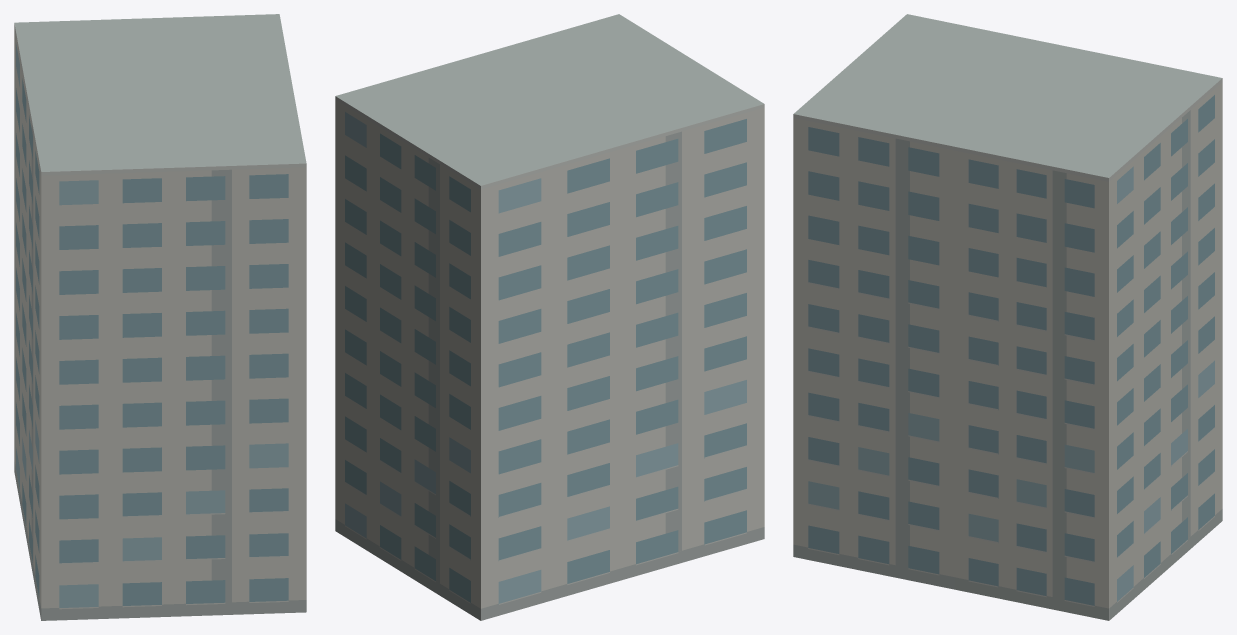
The model's file is residential-4d6971ba-b67b-430f-8f1c-2e909d71a961.glb.
3 renders of one model, left to right at view 1: azimuth 30°, elevation 25°; view 2: azimuth 150°, elevation 25°; view 3: azimuth 270°, elevation 25°, orthographic. The views are drawn at different scales.
Parts seen in each view (by area): view 1: residential-4d6971ba-b67b-430f-8f1c-2e909d71a961.tmp; view 2: residential-4d6971ba-b67b-430f-8f1c-2e909d71a961.tmp; view 3: residential-4d6971ba-b67b-430f-8f1c-2e909d71a961.tmp.
Boxes of the visible parts, x1,y1,x2,y2 form: residential-4d6971ba-b67b-430f-8f1c-2e909d71a961.tmp: (14,14,306,620); residential-4d6971ba-b67b-430f-8f1c-2e909d71a961.tmp: (335,14,764,620); residential-4d6971ba-b67b-430f-8f1c-2e909d71a961.tmp: (793,14,1222,620).
Bounding box in the file's own units: 23.05 × 29 × 25.48.
